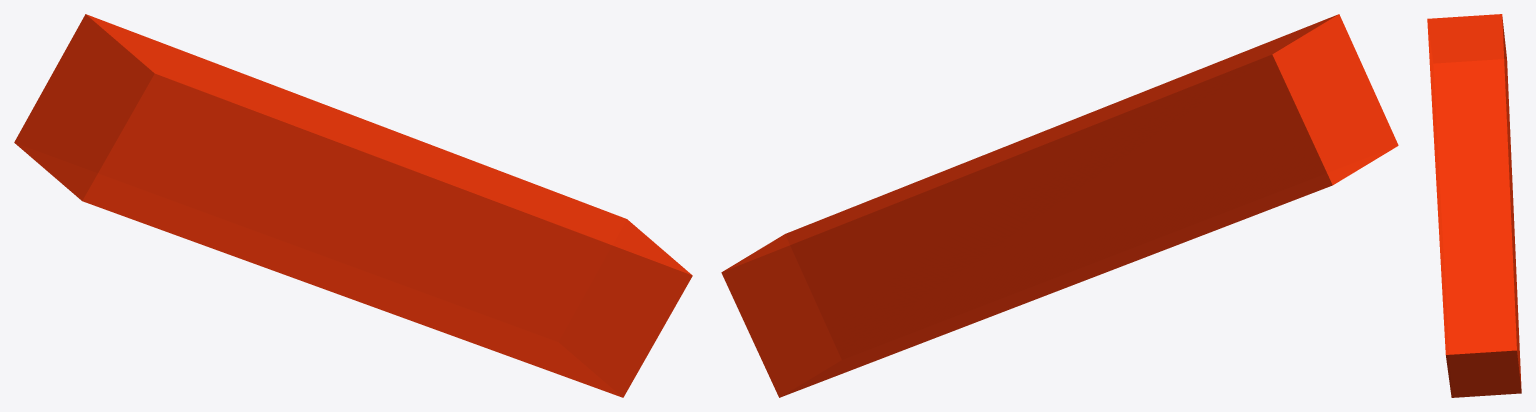
File: Event_420094457_EBrechit_17.fbx
3 views of the same model, side by side, from view 1: azimuth 30°, elevation 25°; view 2: azimuth 150°, elevation 25°; view 3: azimuth 270°, elevation 25° (orthographic). The views are drawn at different scales.
Visible parts, largest first — view 1: Model; view 2: Model; view 3: Model.
Boxes of the visible parts, box(x1,y1,x2,y2) form: Model: box(14, 14, 692, 397); Model: box(721, 14, 1398, 397); Model: box(1427, 14, 1521, 397).
Size of the model in its own units: 0.3062 by 0.2208 by 0.0743.
